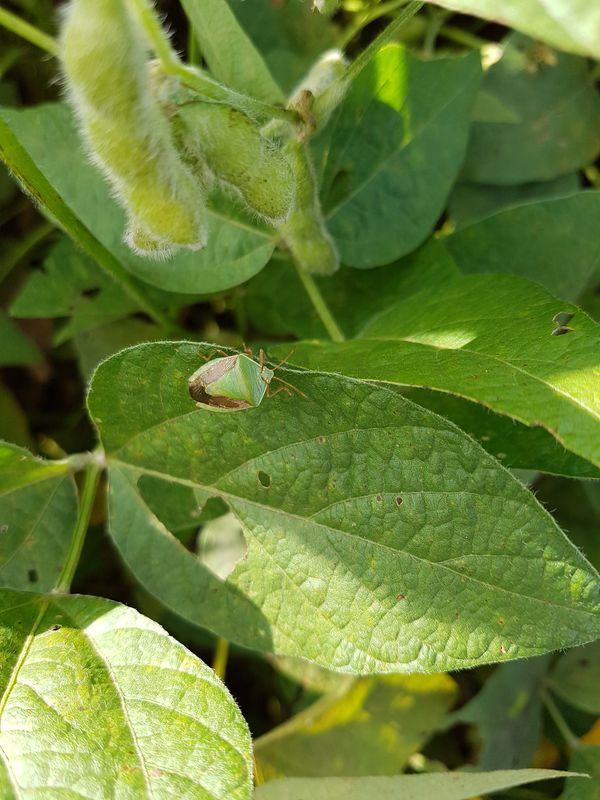Edessa_meditabunda: (175, 334, 313, 426)
